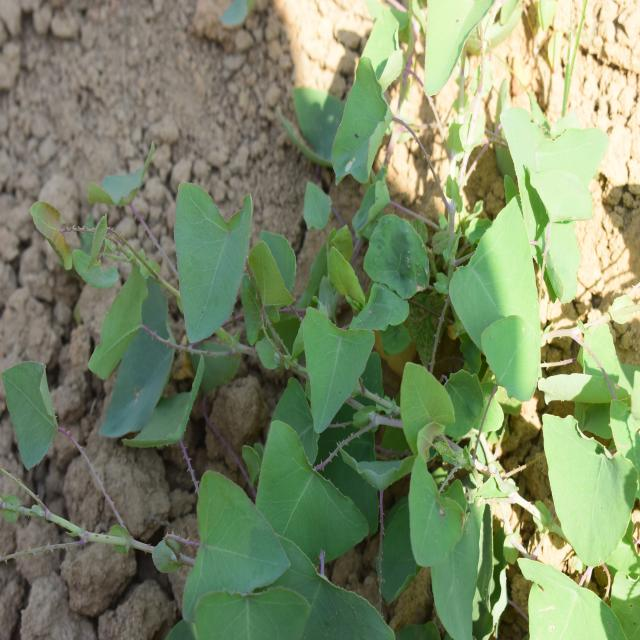Asiatic_Smartweed: (30, 157, 282, 410), (382, 284, 552, 640), (193, 428, 377, 636), (455, 100, 594, 364), (334, 0, 475, 203), (281, 247, 385, 444)
